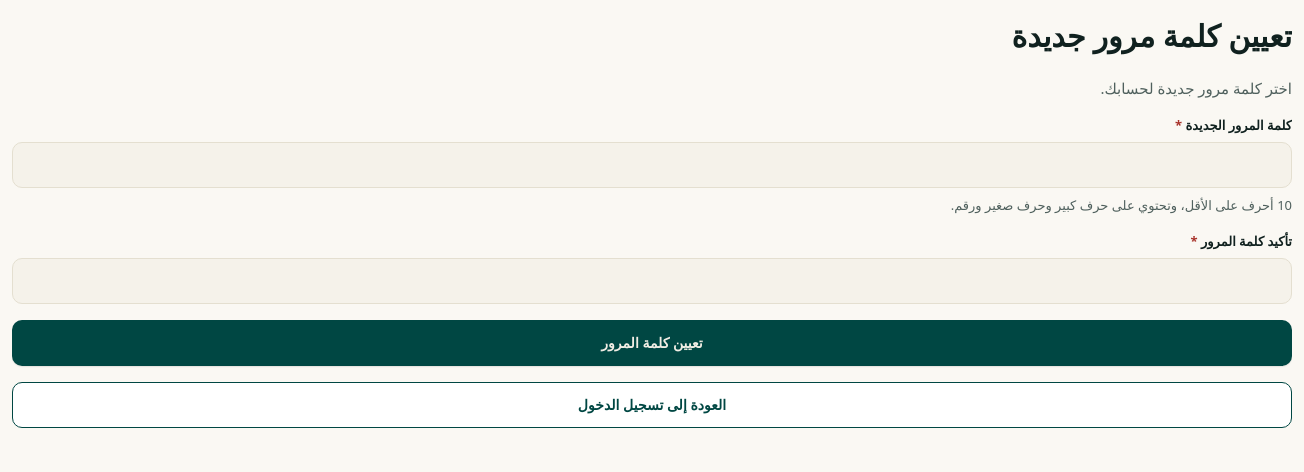
Test: ResetPasswordForm › validates the password rules and the confirmation, and focuses the first invalid field
Expected: the heading "تعيين كلمة مرور جديدة" is shown, [1012,15,1292,56]
Click the button "تعيين كلمة المرور".
click(652, 343)  # box [12,320,1292,366]
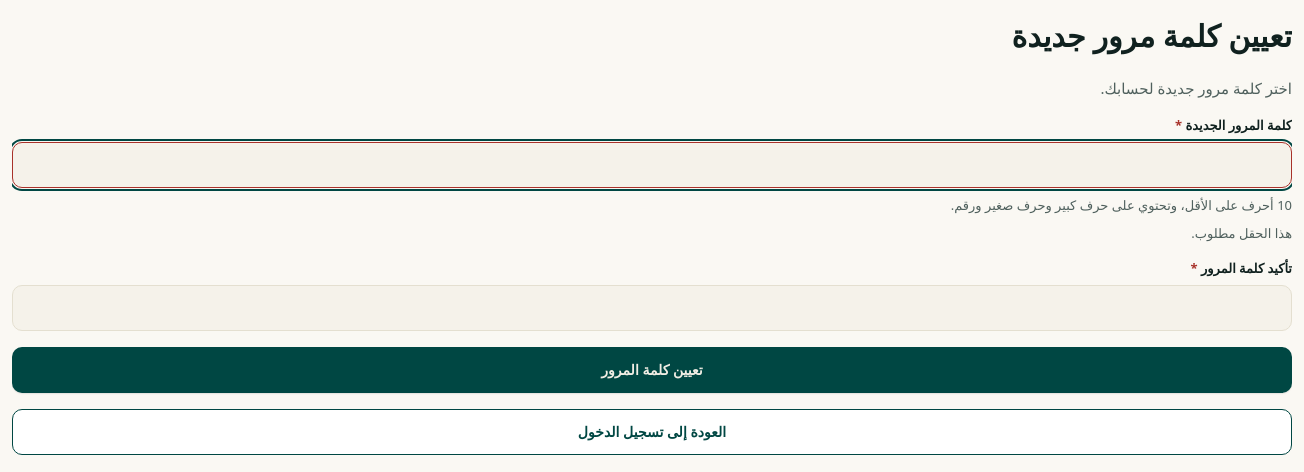
Expected: the text "هذا الحقل مطلوب." is shown, [1191,224,1292,242]
Type "Abcdefgh1x" into the password field labelled "كلمة المرور الجديدة *".
click(652, 165); type("Abcdefgh1x")  # box [12,142,1292,188]
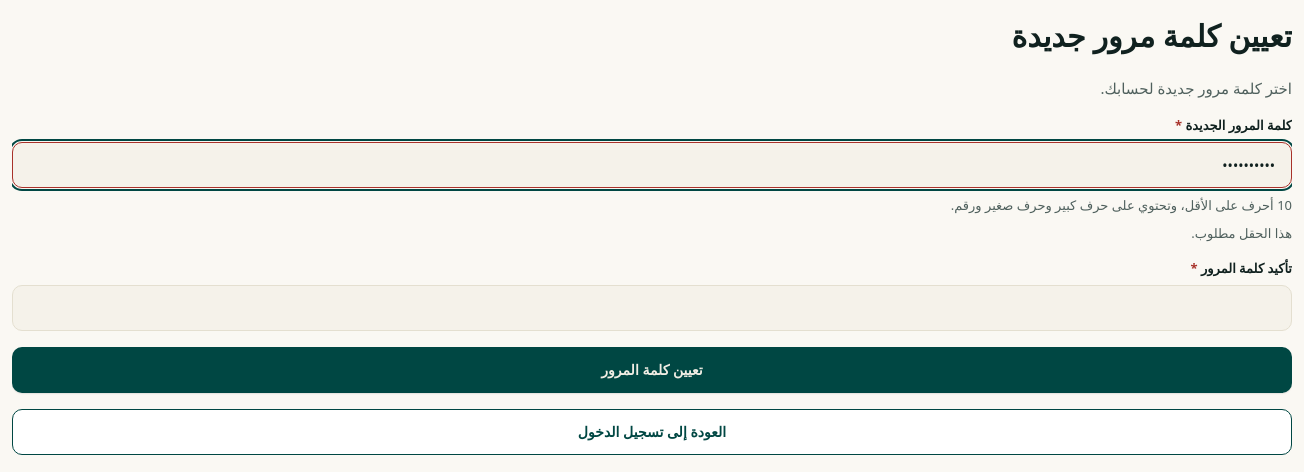
Type "Different1xx" into the password field labelled "تأكيد كلمة المرور *".
click(652, 308); type("Different1xx")  # box [12,285,1292,331]
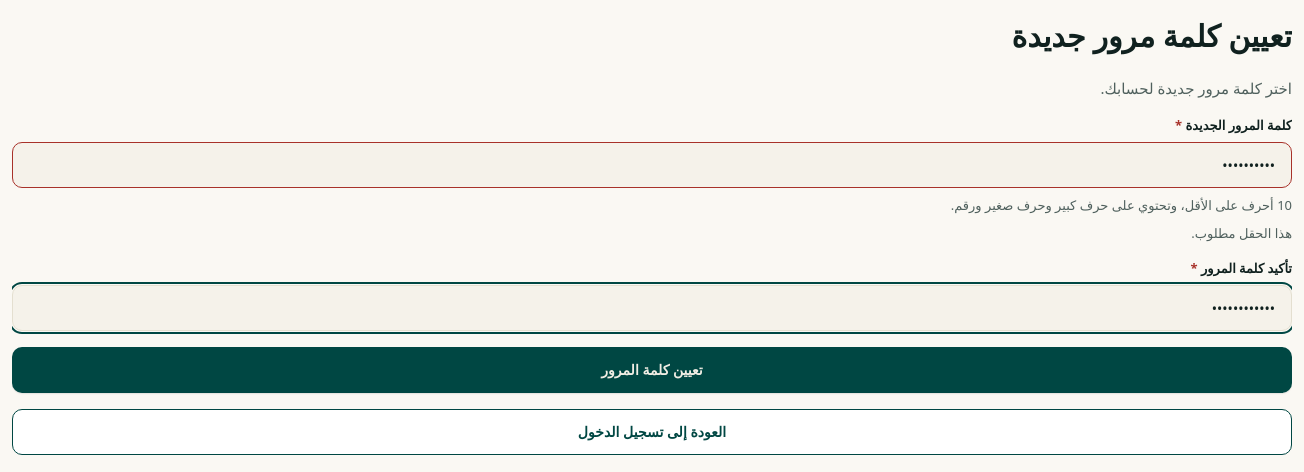
Click the button "تعيين كلمة المرور".
click(652, 370)  # box [12,347,1292,393]
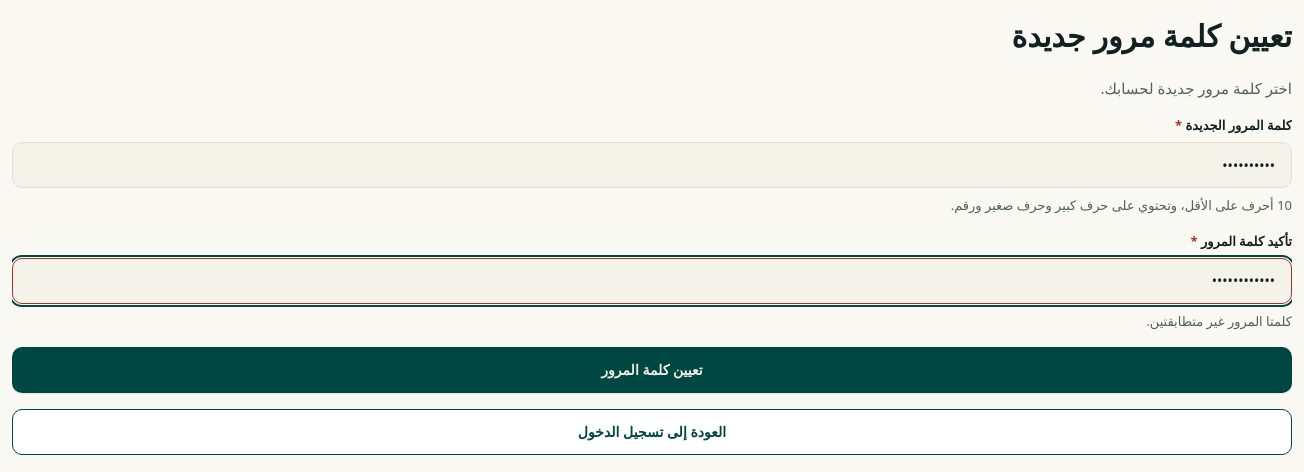
Expected: the text "كلمتا المرور غير متطابقتين." is shown, [1146,312,1292,330]
